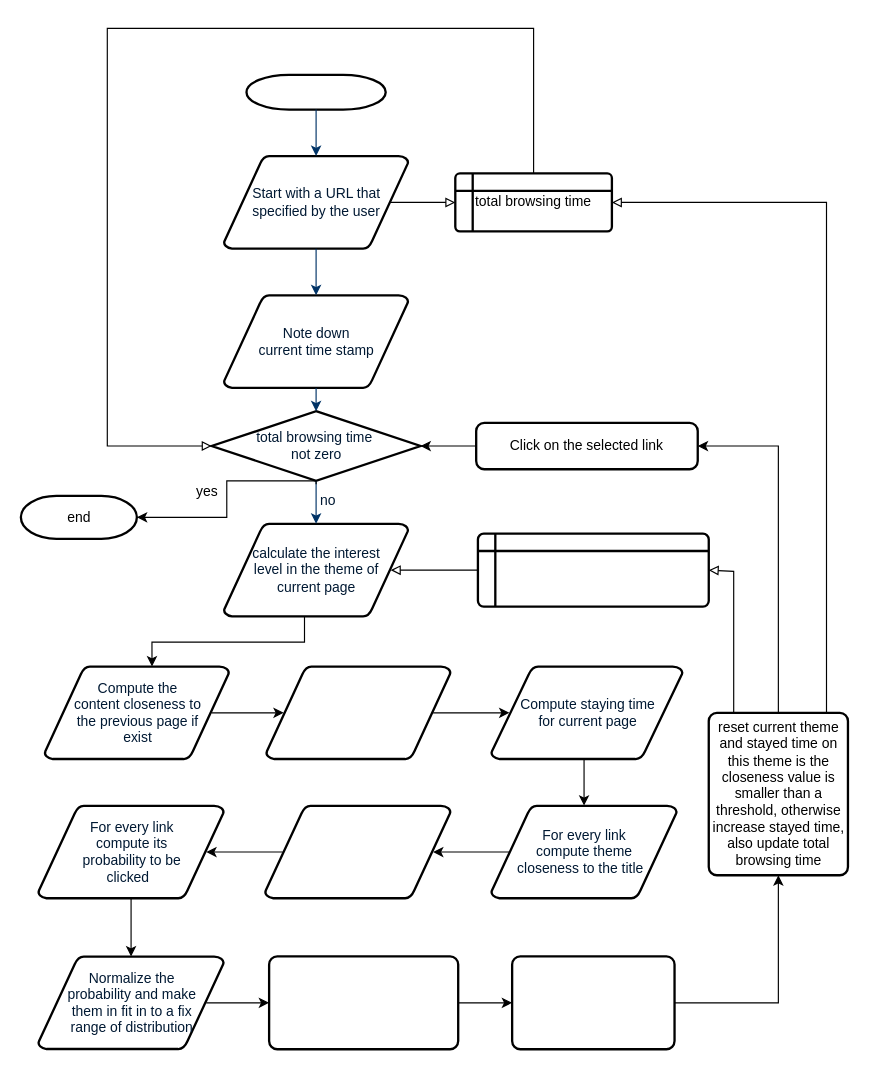
The diagram is 869 pixels wide and 1071 high, and some of its shapes have lost their labels. Each missing label, with the box of its shape:
Choose the link whose range contains this random number: (510, 955, 675, 1050)
Compute the interest in the page content (or content quality): (264, 665, 451, 760)
Current Theme Stayed Time on this Theme: (476, 532, 709, 607)
For every link compute its visibility closeness: (263, 804, 451, 899)
Generate a random number inside the range to the probability distribution: (267, 955, 459, 1050)
start: (245, 73, 386, 110)
